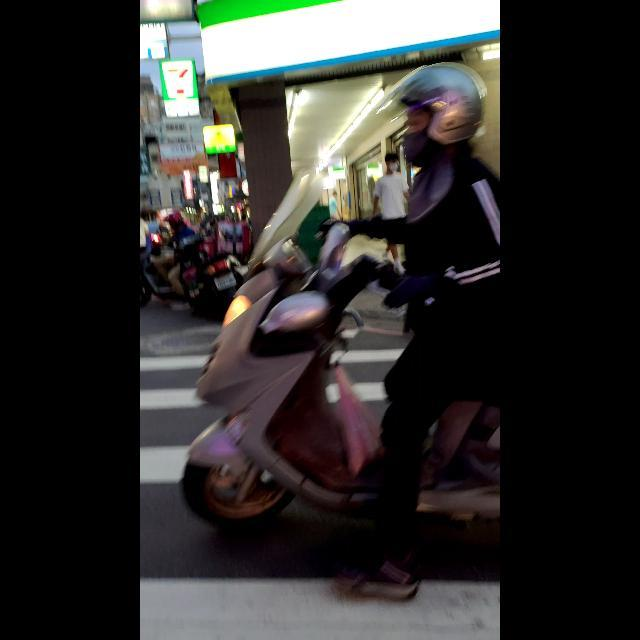sidewalk: (140, 341, 500, 640)
